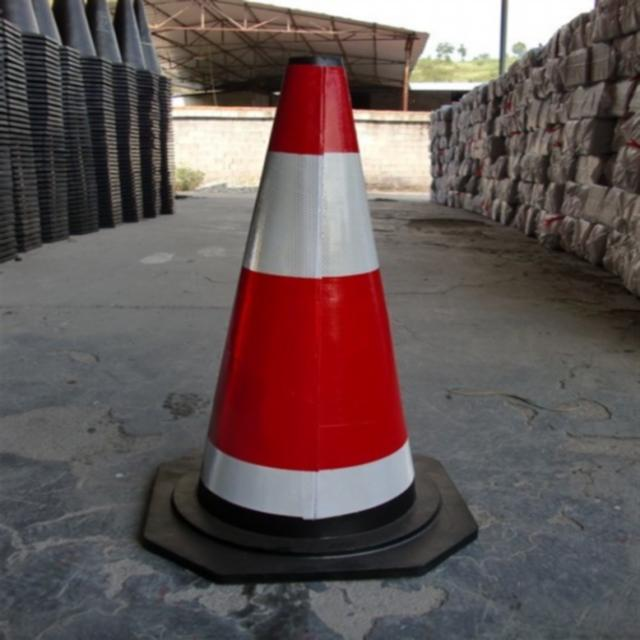reflective_cone: (132, 52, 480, 580)
